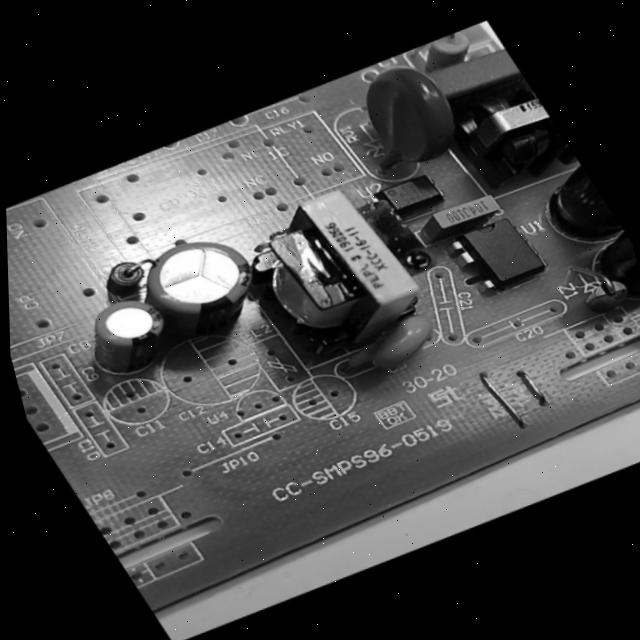Cap1: (122, 215, 287, 364)
Cap2: (65, 283, 188, 385)
Cap3: (565, 207, 640, 320)
Cap4: (511, 140, 618, 249)
MOSFET: (444, 204, 555, 302)
Mov: (324, 41, 484, 191)
Resistor: (413, 24, 483, 76)
Transformer: (219, 155, 463, 375), (456, 76, 569, 177)
